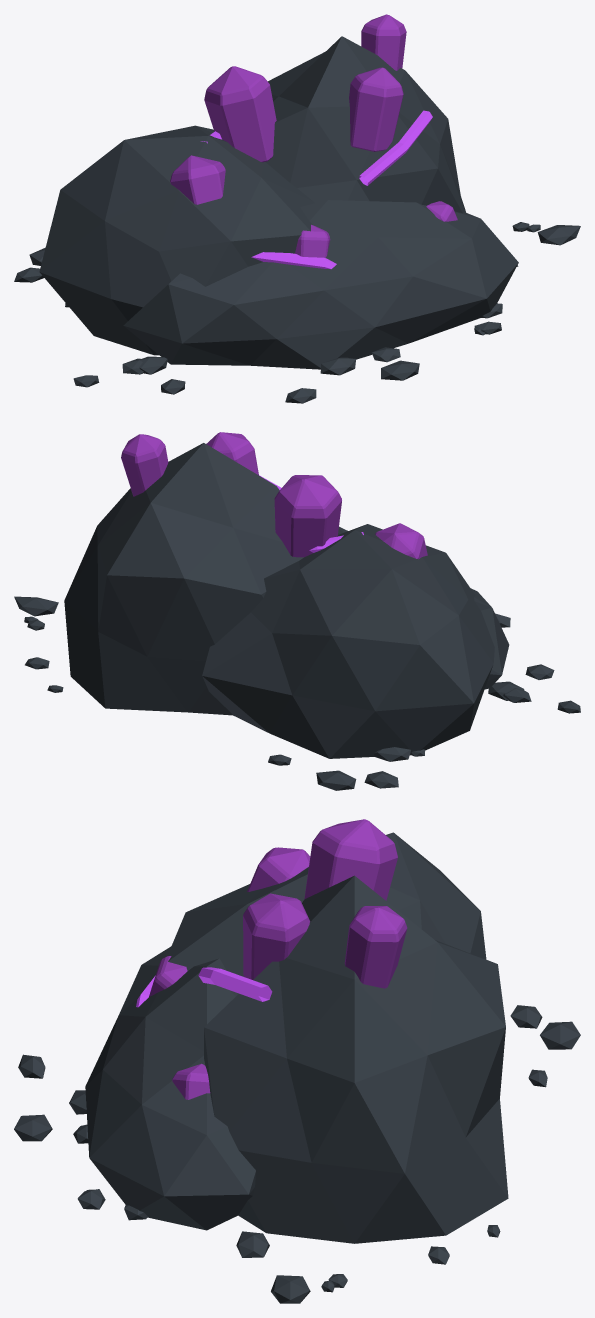
The model's file is SM_RareMineralsDeposit.fbx.
The picture shows the model from 3 angles, top to bottom: view 1: azimuth 30°, elevation 25°; view 2: azimuth 150°, elevation 25°; view 3: azimuth 270°, elevation 25°; orthographic projection. The views are drawn at different scales.
Parts seen in each view (by area): view 1: SM_RareMineralsDeposit.001; view 2: SM_RareMineralsDeposit.001; view 3: SM_RareMineralsDeposit.001.
Boxes of the visible parts, x1,y1,x2,y2 form: SM_RareMineralsDeposit.001: (14, 14, 580, 403); SM_RareMineralsDeposit.001: (14, 432, 580, 790); SM_RareMineralsDeposit.001: (14, 819, 580, 1303).
Bounding box in the file's own units: 287 × 203 × 119.
